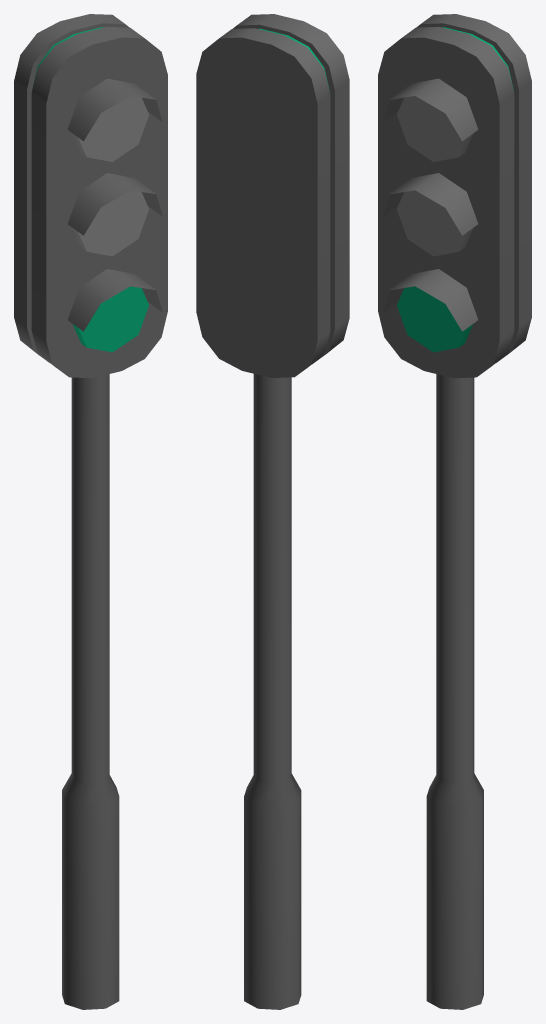
File: TrafficLight.fbx
3 views of the same model, side by side, from view 1: azimuth 30°, elevation 25°; view 2: azimuth 150°, elevation 25°; view 3: azimuth 330°, elevation 25° (orthographic).
Parts seen in each view (by area): view 1: Streetlamp; view 2: Streetlamp; view 3: Streetlamp.
Boxes of the visible parts, bbox=[...] form: Streetlamp: bbox=[14, 14, 167, 1009]; Streetlamp: bbox=[196, 14, 349, 1009]; Streetlamp: bbox=[378, 14, 531, 1009].
Size of the model in its own units: 73.95 by 563 by 58.64.
